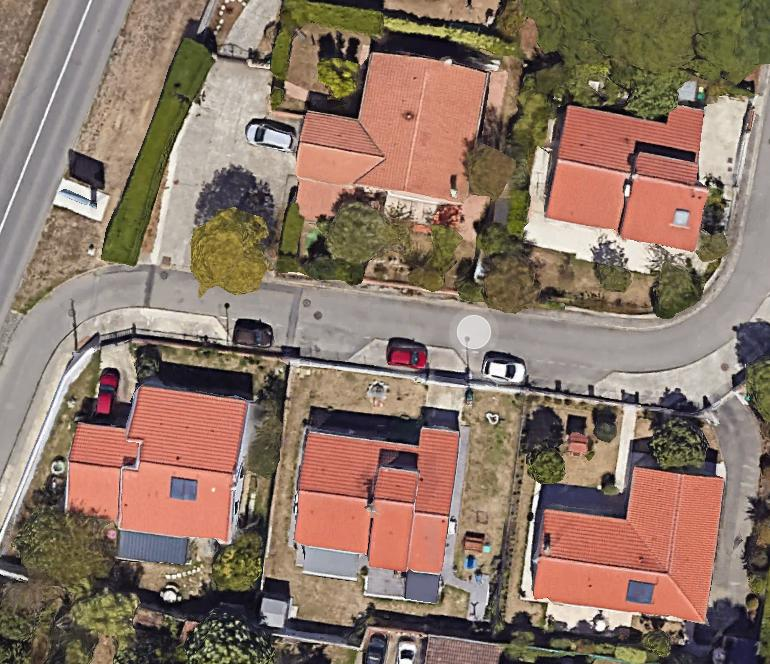maison: (289, 46, 488, 240), (527, 454, 723, 622), (60, 377, 249, 543), (542, 88, 722, 252), (289, 414, 458, 575)
